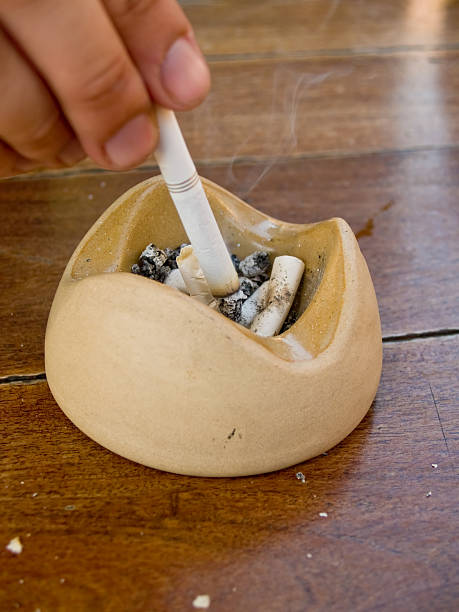cigarette: (147, 106, 243, 298), (251, 254, 309, 338), (172, 244, 220, 316), (241, 276, 275, 326), (163, 267, 193, 294)
